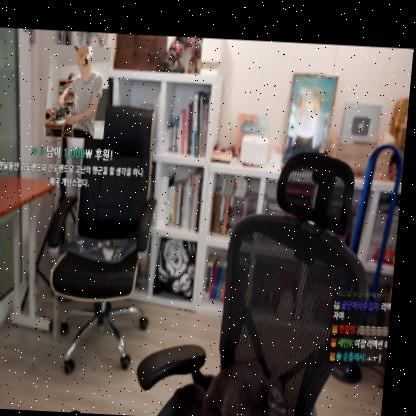donation: (0, 39, 155, 189)
